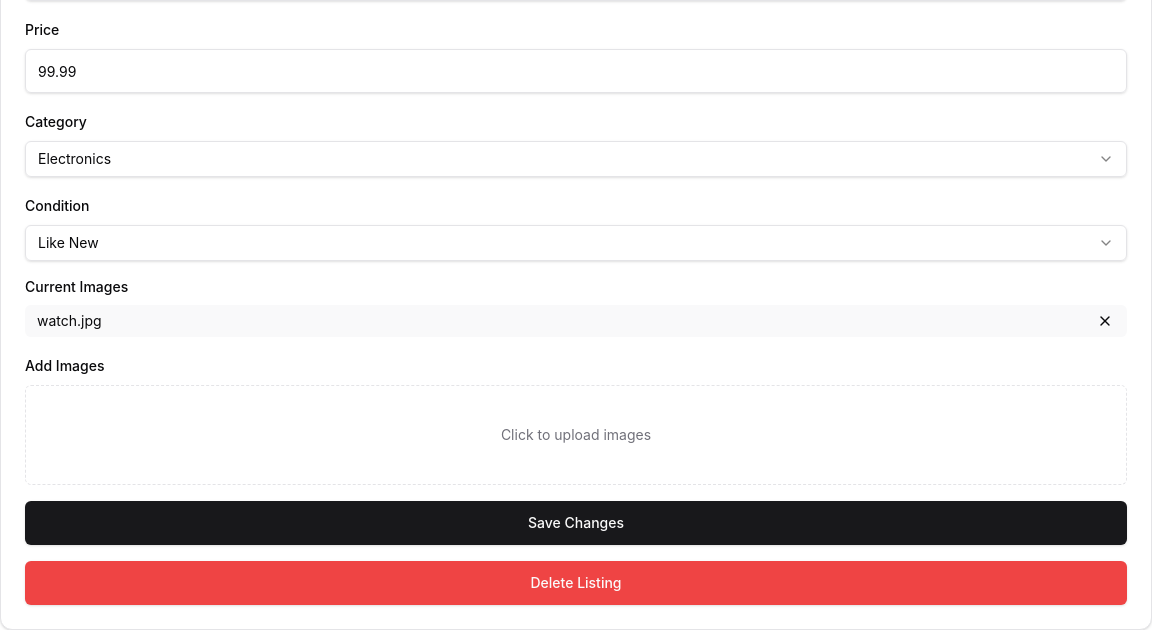
Scenario: CreateListingForm › edit mode › closes delete dialog when Cancel is clicked
This screenshot has width=1152, height=630.
(page scrolled)
Click the button "Delete Listing".
click(576, 583)  # box [25, 561, 1127, 605]
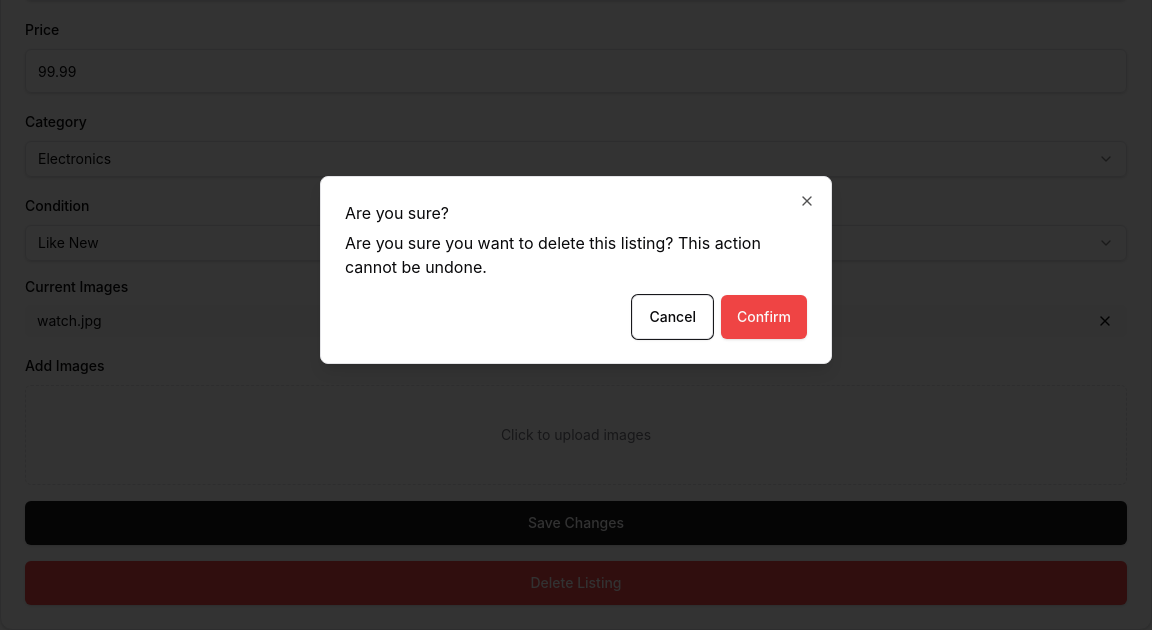
Now the dialog is shown, box [320, 176, 832, 364]
Click the button "Cancel".
click(673, 317)  # box [632, 295, 713, 339]
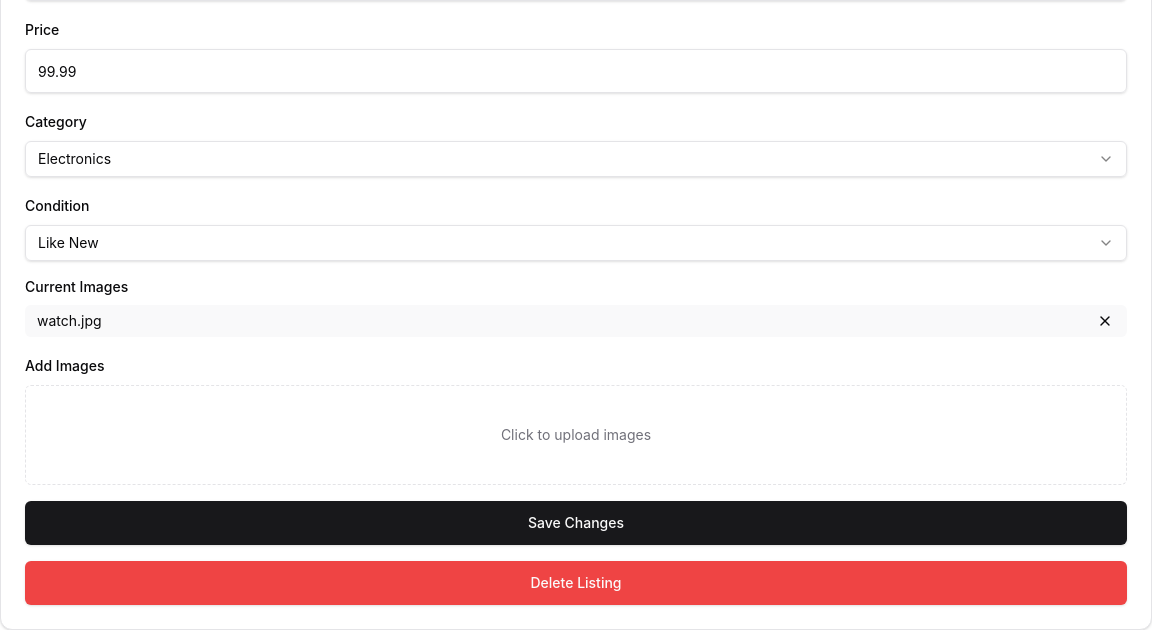
Now the dialog is gone
